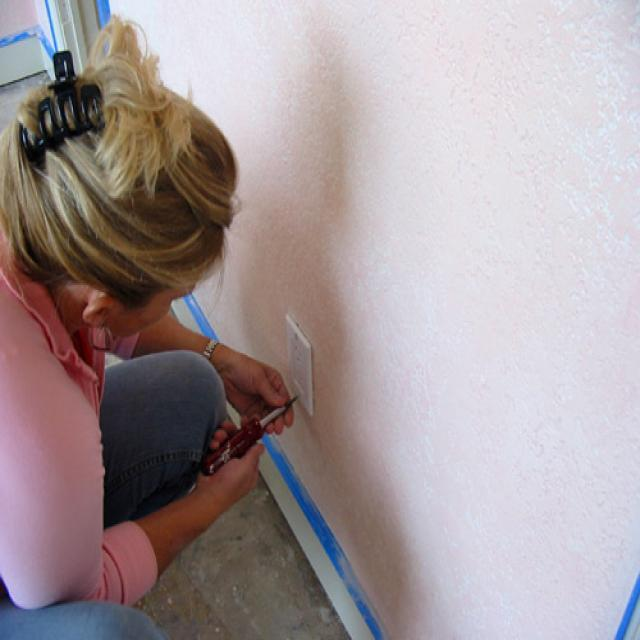screwdriver: (199, 385, 305, 482)
